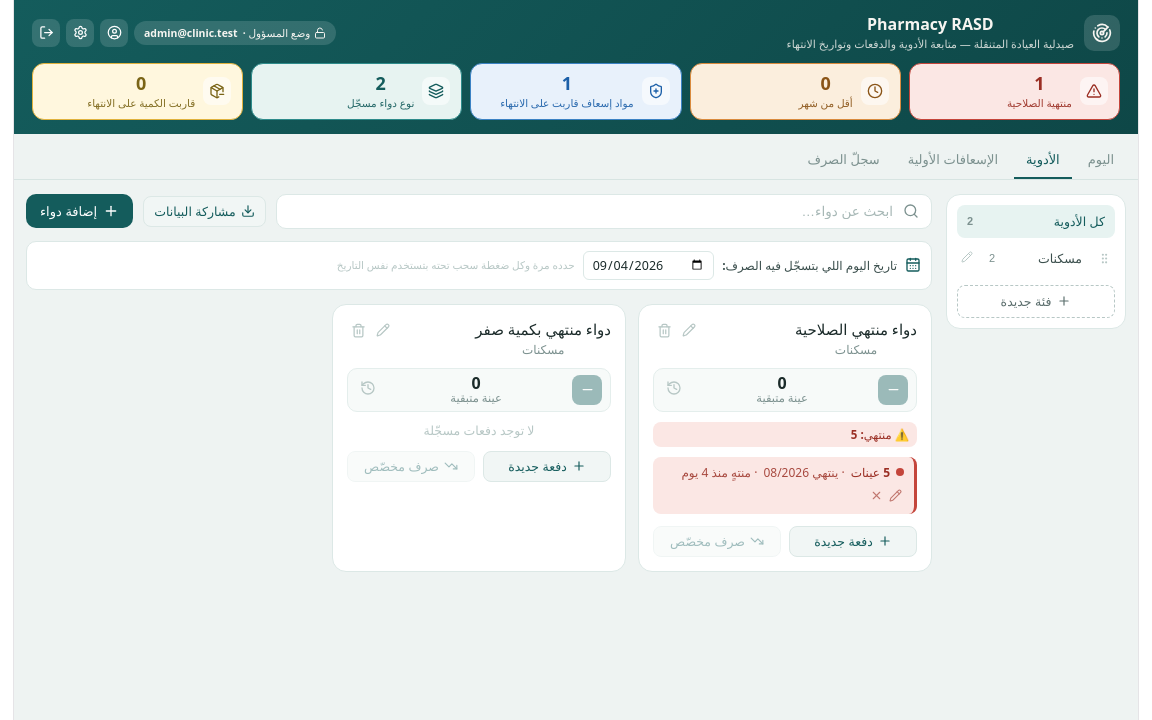
KPI cards — clickable dashboard shortcuts › a medication whose only expired batch has qty = 0 is excluded from the expired KPI count and filter
Click the button "1 منتهية الصلاحية".
click(1014, 91)  # box [909,63,1120,120]
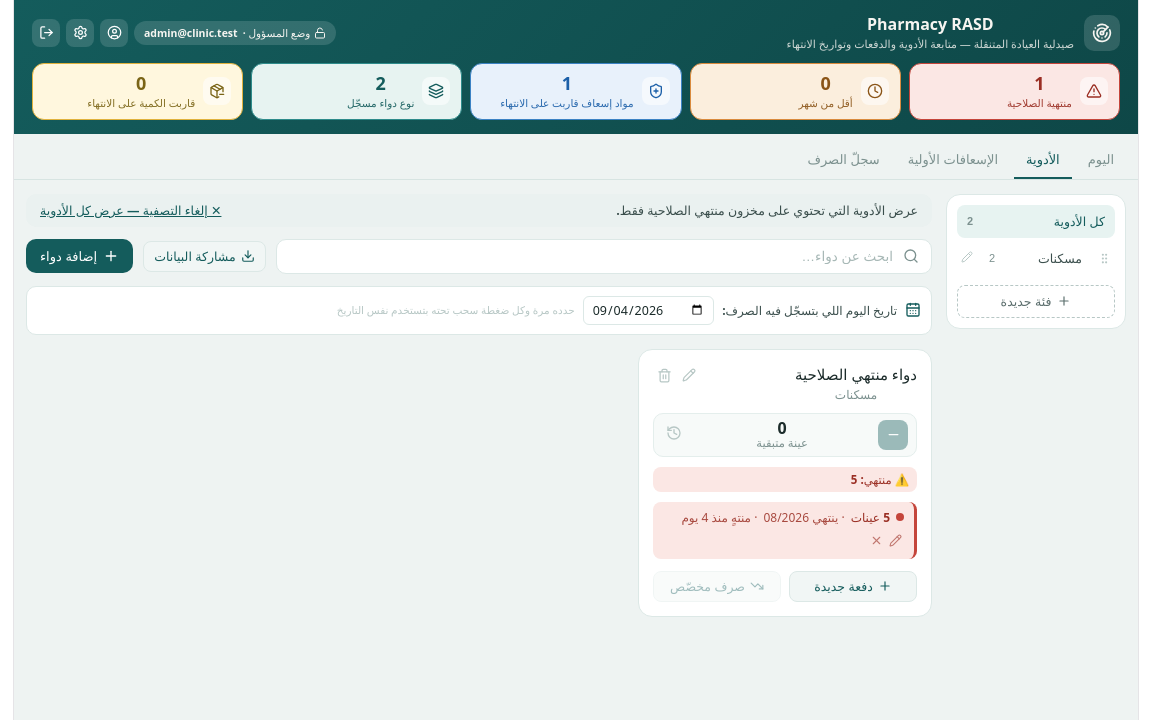
Expected: the text "دواء منتهي الصلاحية" is shown, [795,364,917,384]
Now the text "دواء منتهي بكمية صفر" is gone
